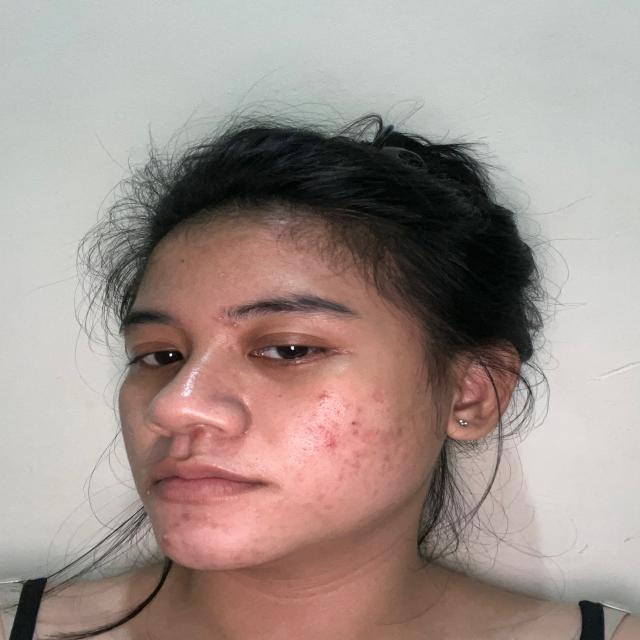Acne: (368, 387, 388, 405), (321, 432, 339, 450), (341, 458, 364, 470), (316, 391, 334, 403), (189, 427, 205, 440), (391, 423, 403, 438), (181, 510, 195, 522), (378, 460, 387, 478), (293, 471, 305, 484), (212, 270, 228, 279), (330, 420, 344, 430), (206, 522, 220, 531), (252, 507, 263, 518), (317, 424, 329, 434), (160, 532, 170, 544), (322, 501, 337, 509), (353, 448, 363, 459), (315, 492, 326, 502), (214, 314, 226, 323), (200, 512, 212, 521), (336, 472, 344, 485), (382, 453, 393, 462), (230, 322, 241, 331), (350, 428, 360, 437), (172, 520, 182, 529), (352, 406, 363, 414), (304, 426, 318, 432), (180, 538, 189, 546), (334, 407, 344, 414), (372, 427, 382, 434), (312, 409, 321, 416), (145, 488, 152, 497), (348, 421, 360, 426)
Blackheads: (203, 398, 221, 414)
Englarged-Pores: (286, 396, 348, 467)
Eyebags: (241, 353, 353, 385)
